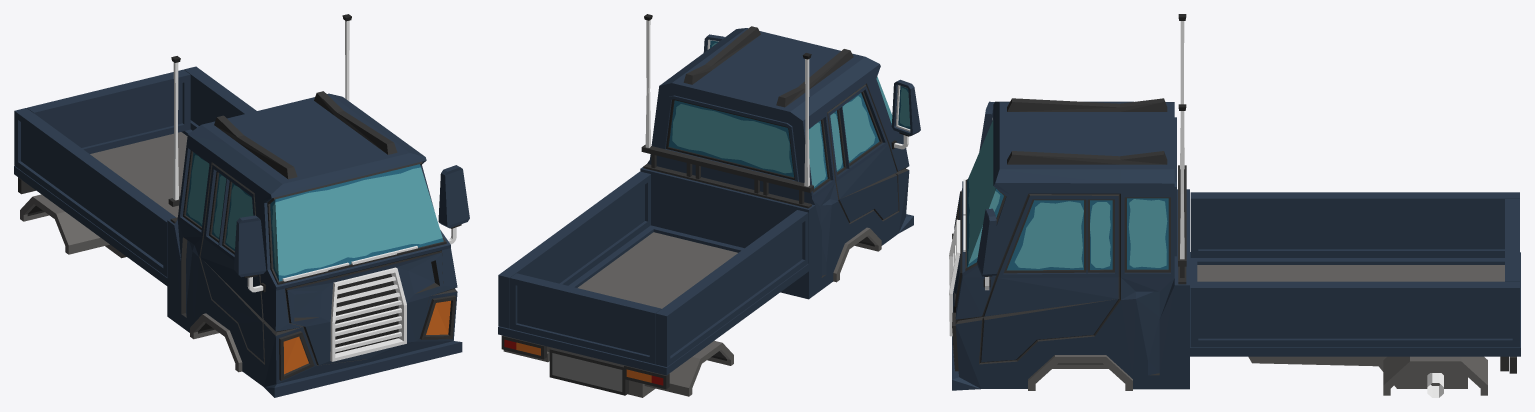
Rendered from Car_B_02.FBX.
3 renders of one model, left to right at view 1: azimuth 30°, elevation 25°; view 2: azimuth 150°, elevation 25°; view 3: azimuth 270°, elevation 25°, orthographic. The views are drawn at different scales.
Parts seen in each view (by area): view 1: Car_B_02; view 2: Car_B_02; view 3: Car_B_02.
Boxes of the visible parts, <box> form: Car_B_02: <box>14,14,469,397</box>; Car_B_02: <box>498,14,920,397</box>; Car_B_02: <box>949,14,1520,397</box>.
Bounding box in the file's own units: 3.82 × 4.48 × 7.57.
